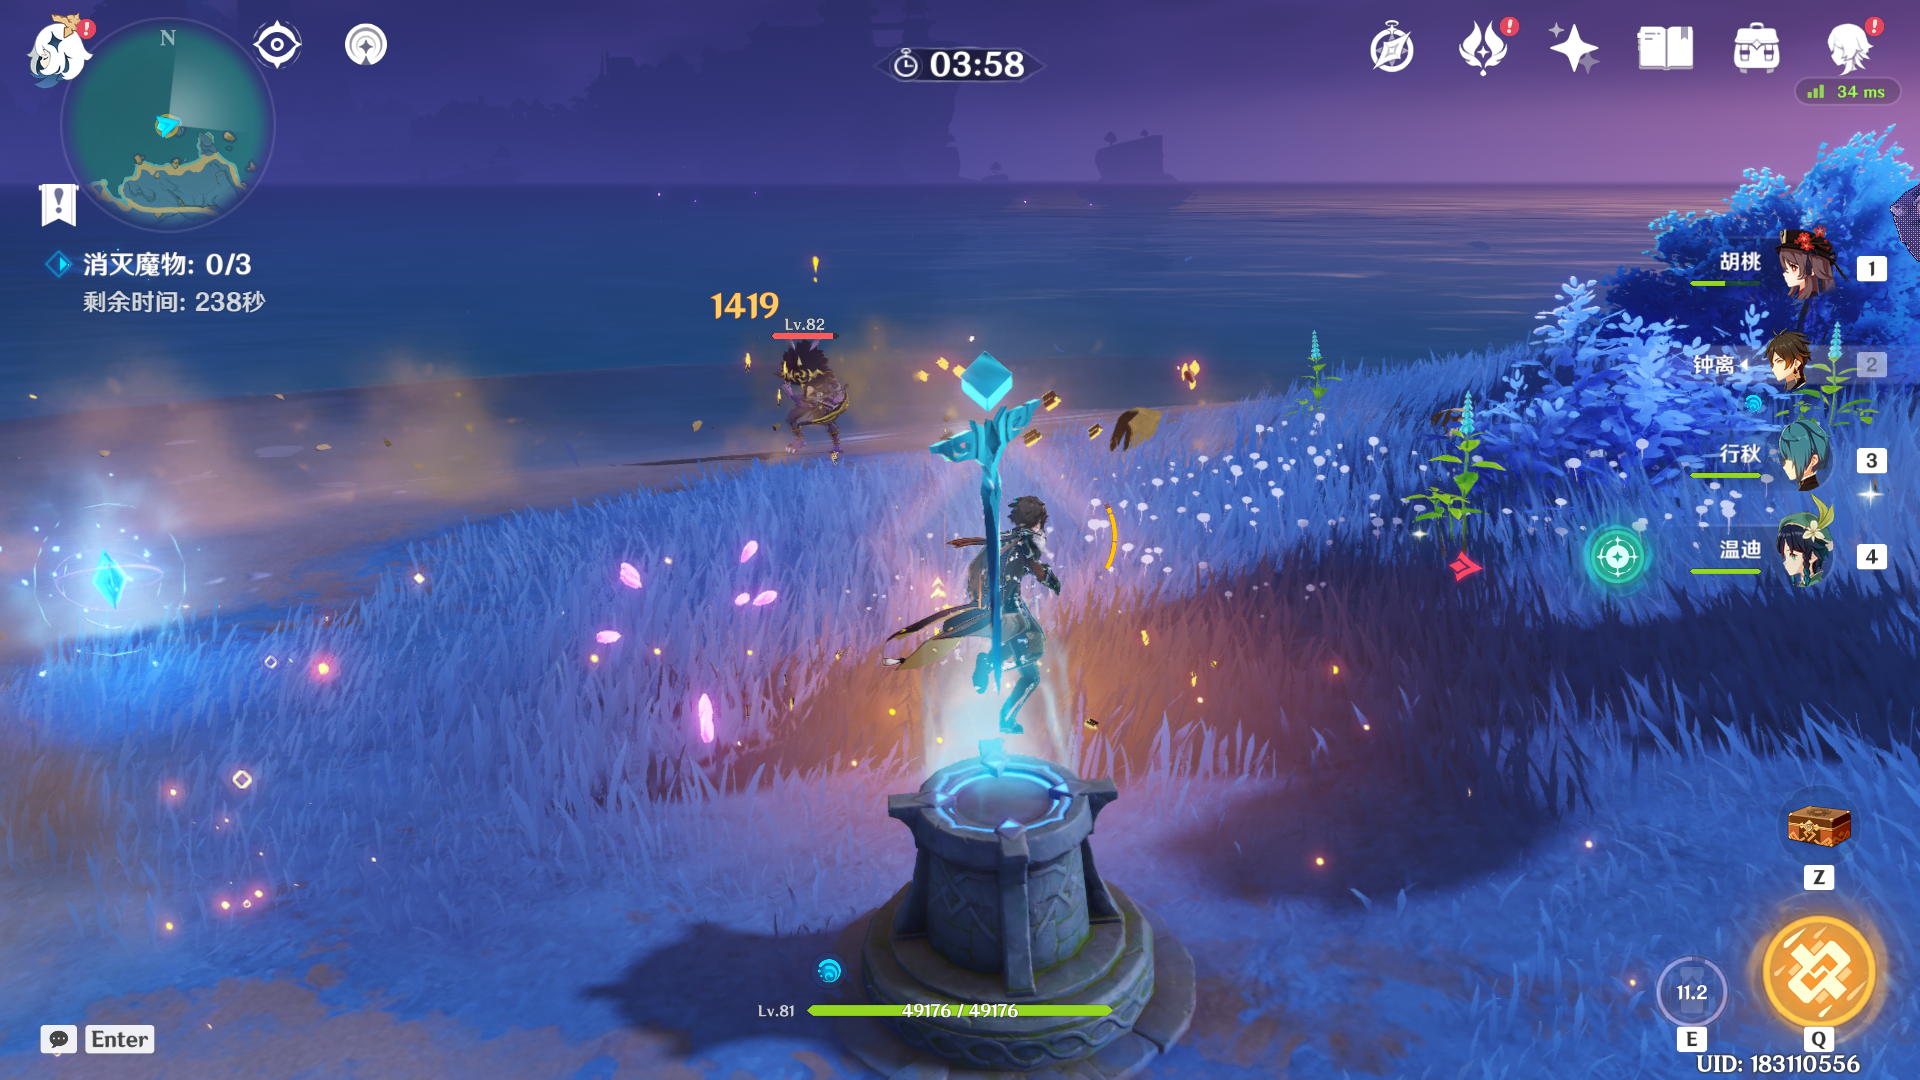character: (905, 473, 1133, 757)
hili: (725, 320, 884, 475)
